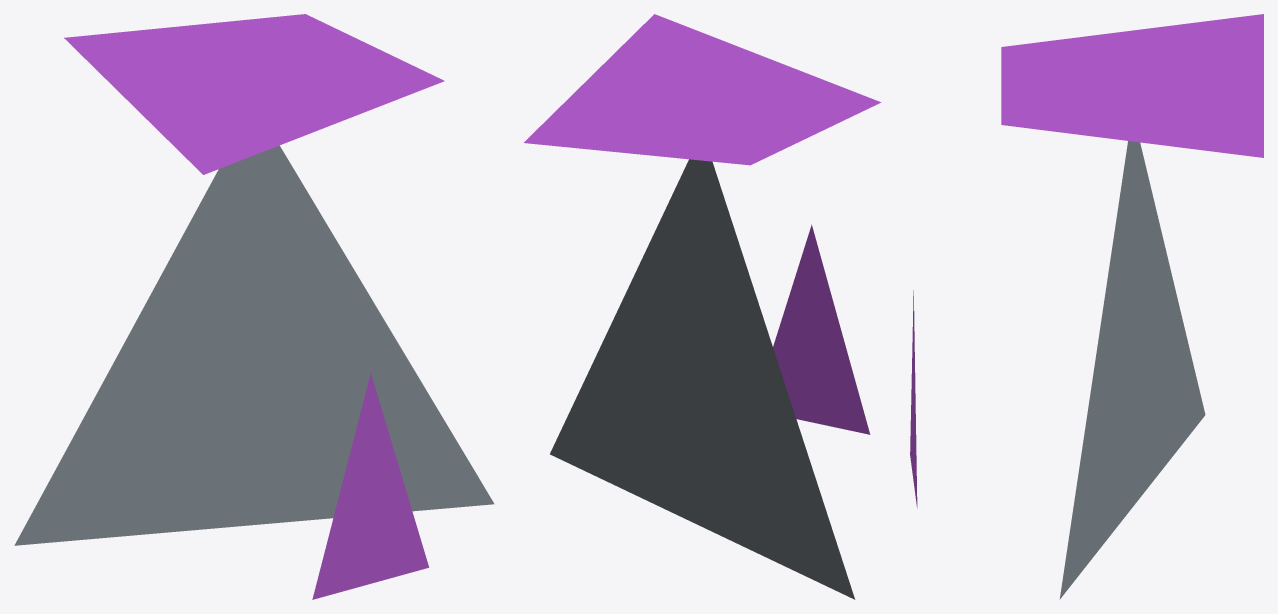
The model's file is CH_CausalityAnchor_LOD2.glb.
3 renders of one model, left to right at view 1: azimuth 30°, elevation 25°; view 2: azimuth 150°, elevation 25°; view 3: azimuth 270°, elevation 25°, orthographic. The views are drawn at different scales.
Parts seen in each view (by area): view 1: EntranceGate; view 2: EntranceGate; view 3: EntranceGate.
Boxes of the visible parts, bbox=[...] form: EntranceGate: bbox=[14, 14, 494, 599]; EntranceGate: bbox=[524, 14, 881, 599]; EntranceGate: bbox=[910, 14, 1263, 599].
Bounding box in the file's own units: 400 × 442 × 323.
